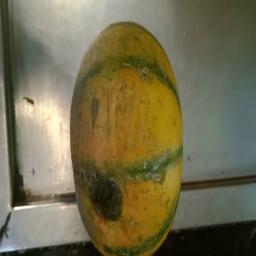Melon Semirotten: (67, 20, 189, 256)
